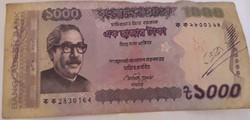1000 taka: (8, 6, 247, 109)
